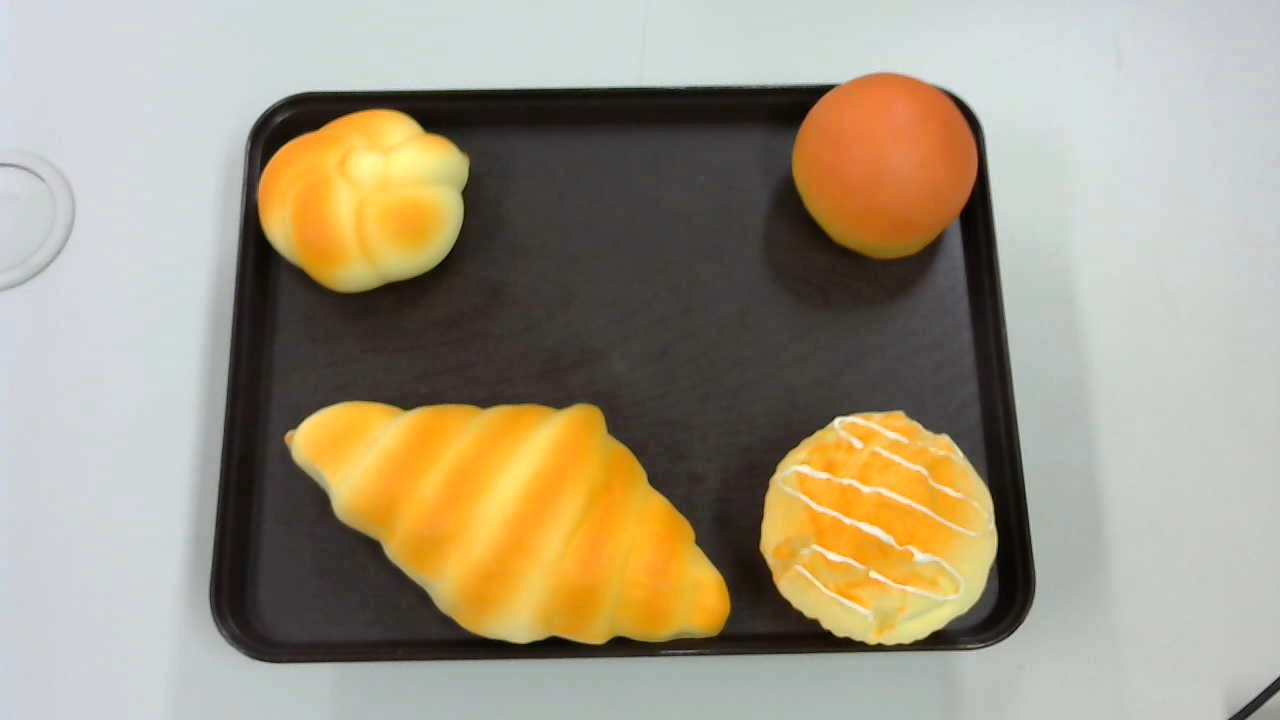bun: (790, 73, 979, 258)
croissant: (284, 397, 733, 643)
cupcake: (759, 410, 998, 645)
twist bread: (254, 109, 472, 295)
